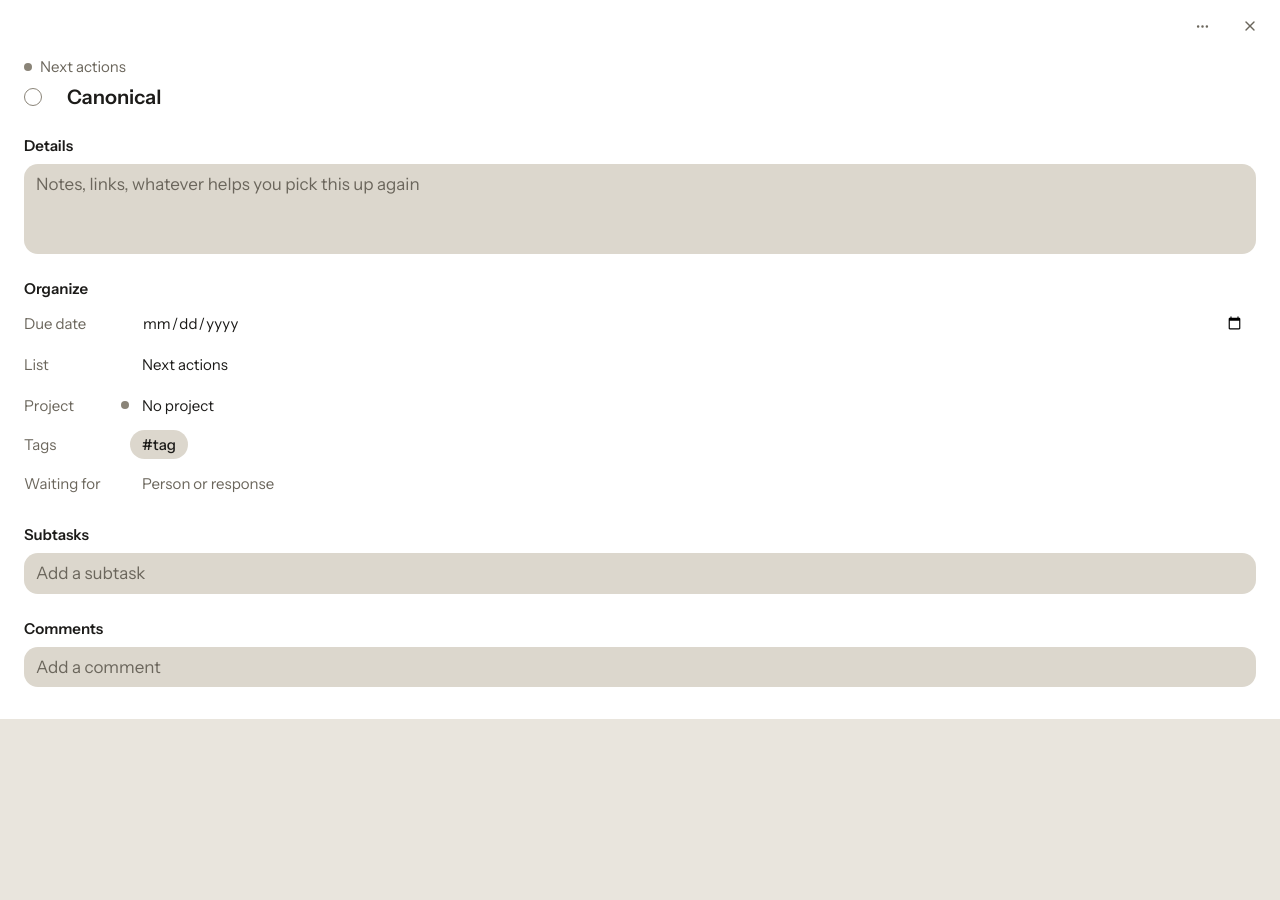
Test case: task detail autosave contract UI › retries a failed canonical conflict refetch before applying preserved edits
The image size is (1280, 900).
Clear the text box named "Title" at (658, 98), box [59,81,1256,114]
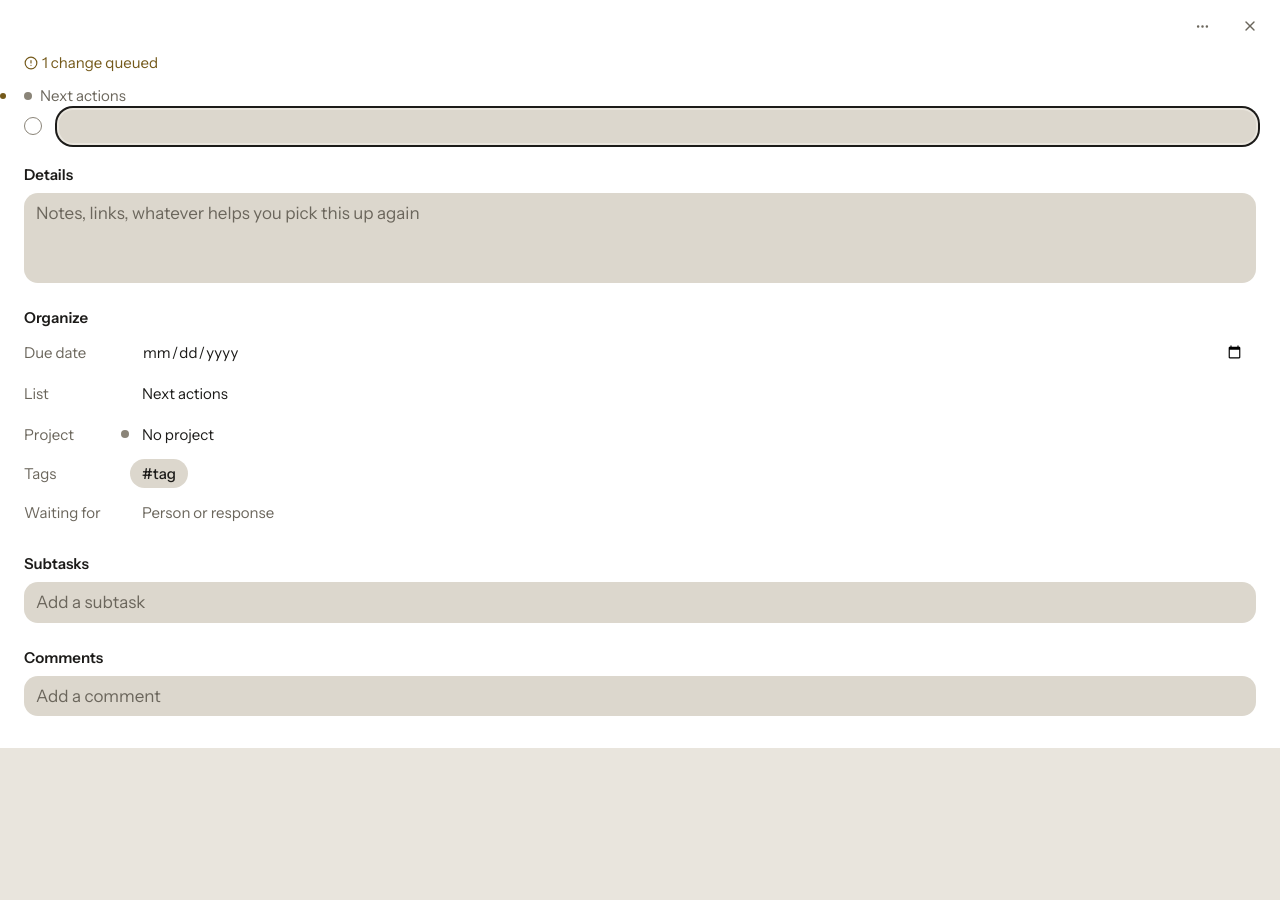
Type "Local" into the text box named "Title" at (658, 126), box [59,110,1256,143]
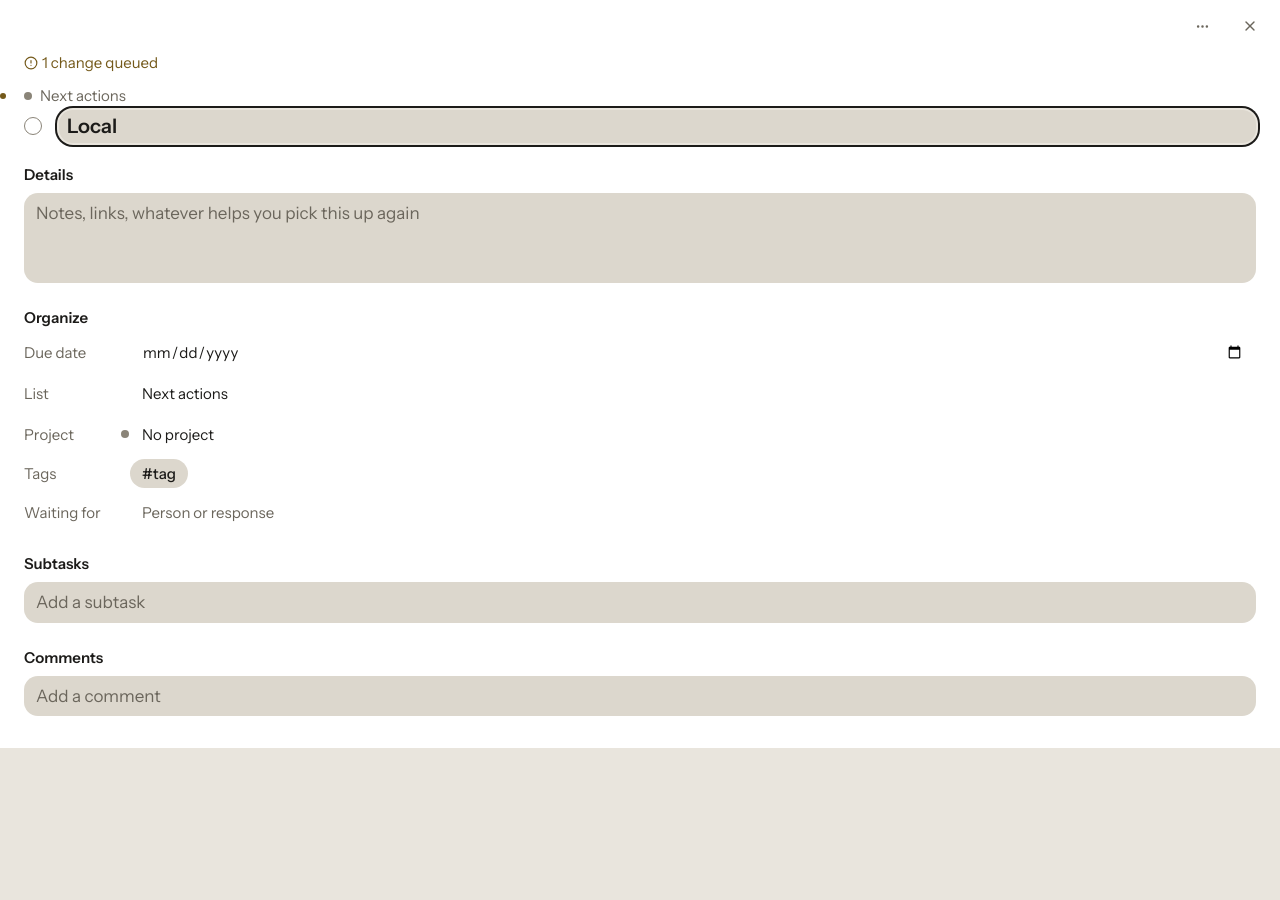
Press Tab
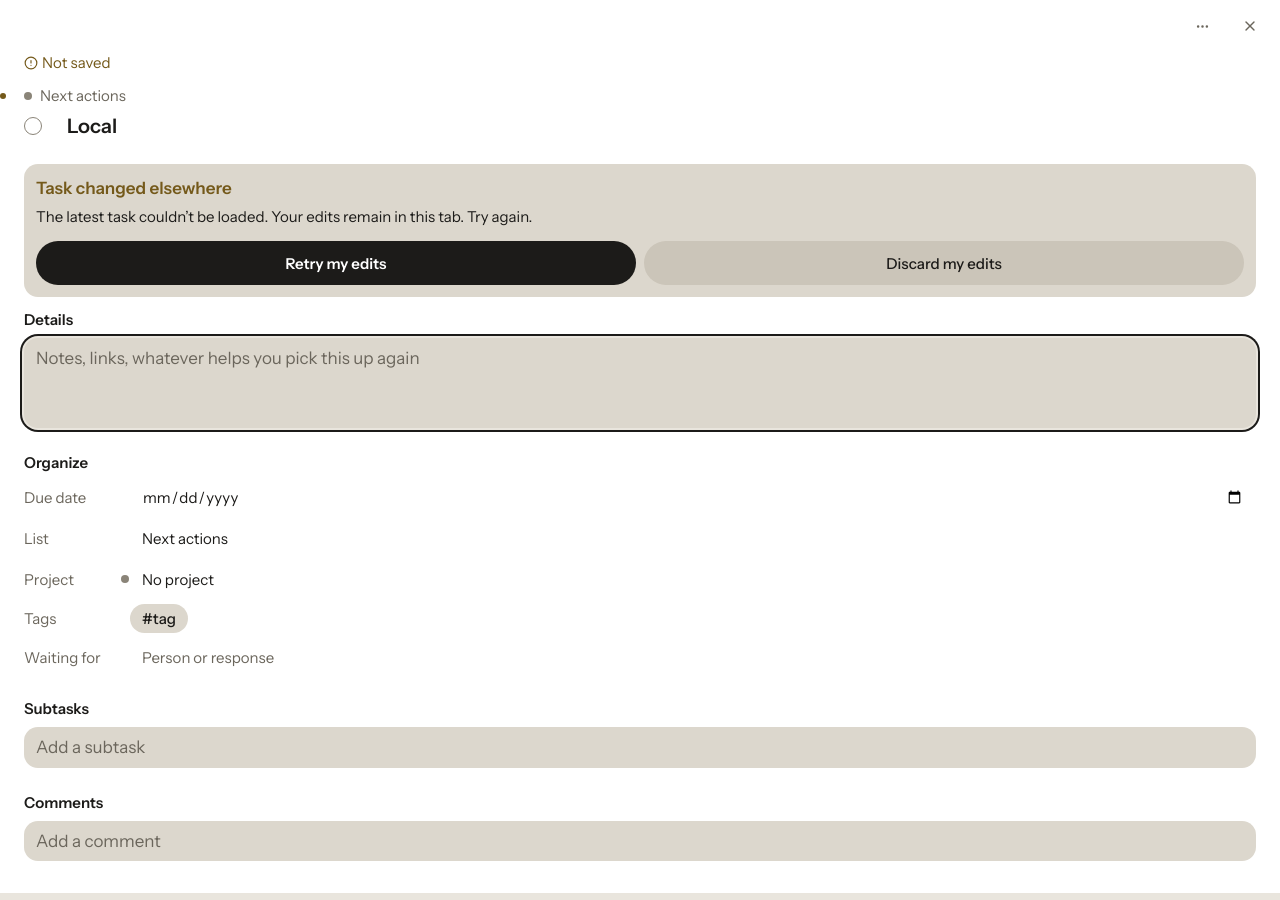
expect the text "The latest task couldn’t be loaded. Your edits remain in this tab. Try again." is shown: met, box [36,207,532,226]
expect the button "Retry my edits" is enabled: met
Click the button "Retry my edits" at (336, 263), box [36,241,636,285]
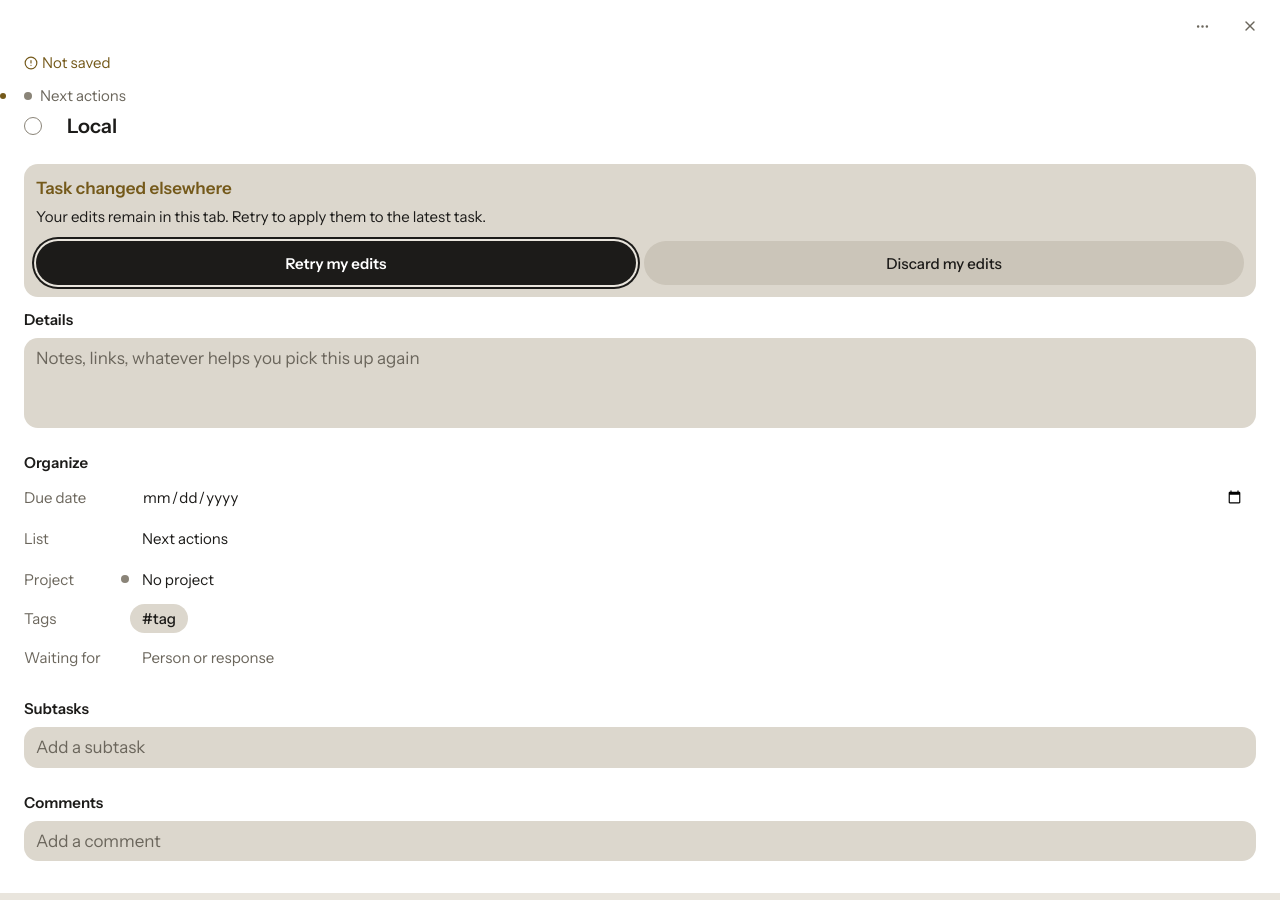
expect the text "Your edits remain in this tab. Retry to apply them to the latest task." is shown: met, box [36,207,486,226]
